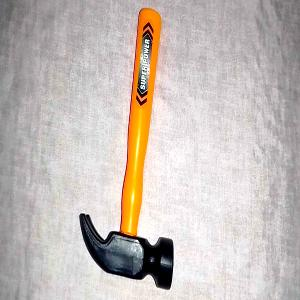martelo: (78, 7, 175, 291)
